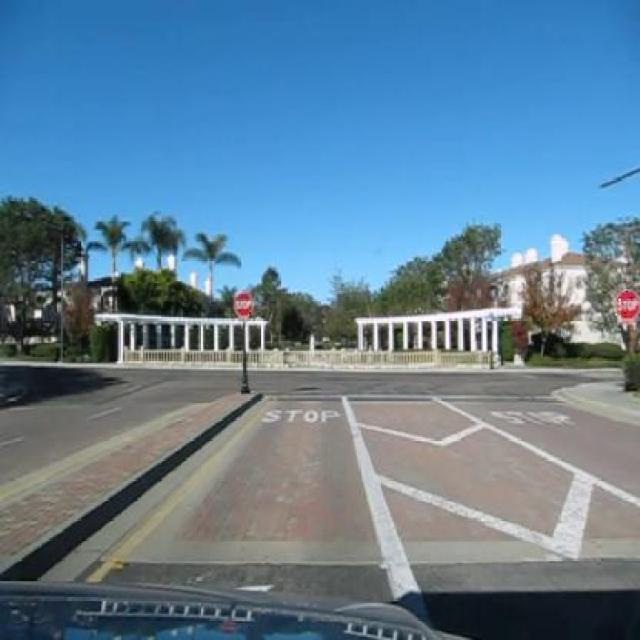stop: (615, 288, 639, 320), (234, 290, 253, 318)
